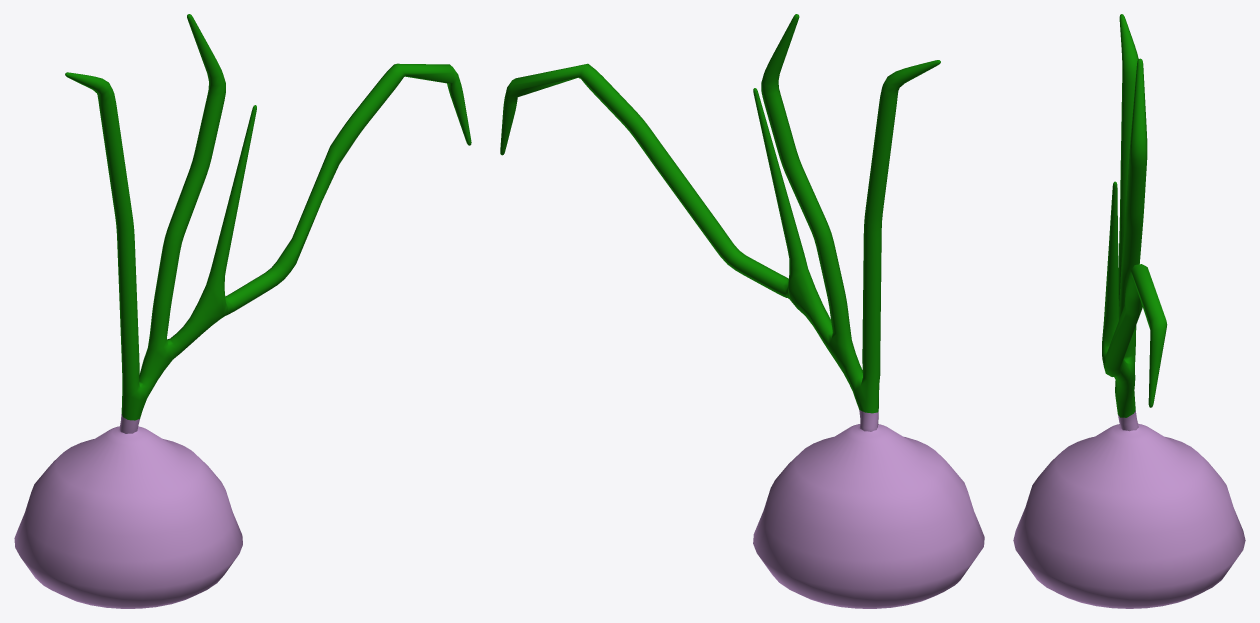
Rendered from Oignon_Croissance_2.fbx.
The picture shows the model from 3 angles, left to right: view 1: azimuth 30°, elevation 25°; view 2: azimuth 150°, elevation 25°; view 3: azimuth 270°, elevation 25°; orthographic projection.
Visible parts, largest first — view 1: Oignon_Base, Feuilles; view 2: Oignon_Base, Feuilles; view 3: Oignon_Base, Feuilles.
Boxes of the visible parts, x1,y1,x2,y2 form: Oignon_Base: [14, 426, 242, 608]; Feuilles: [65, 14, 471, 433]; Oignon_Base: [753, 424, 984, 608]; Feuilles: [500, 14, 940, 431]; Oignon_Base: [1013, 423, 1245, 608]; Feuilles: [1102, 14, 1167, 431].
Size of the model in its own units: 25.53 by 30.07 by 11.2.
